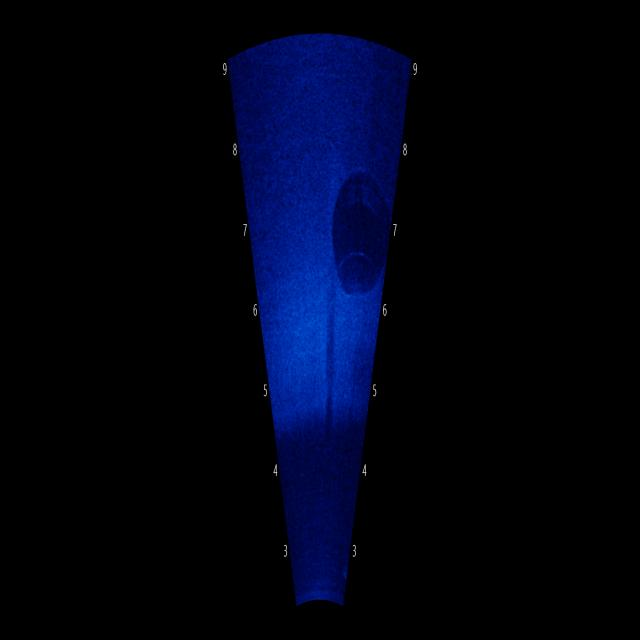circle: (323, 166, 398, 311)
